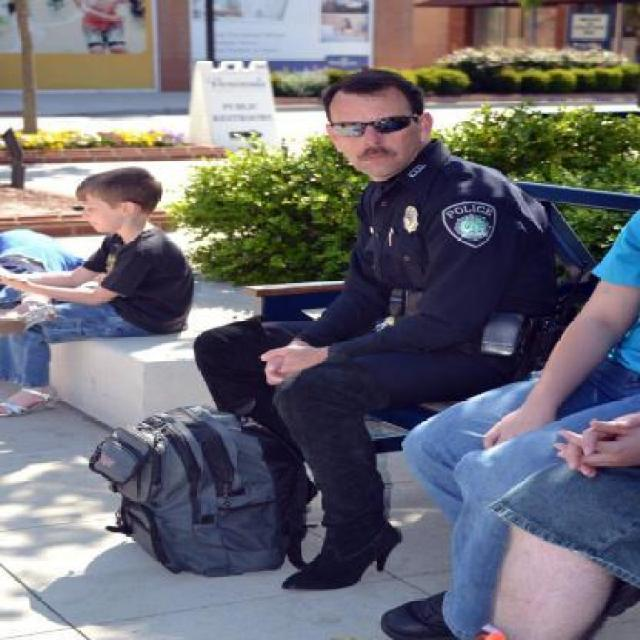backpack: (83, 396, 308, 578)
